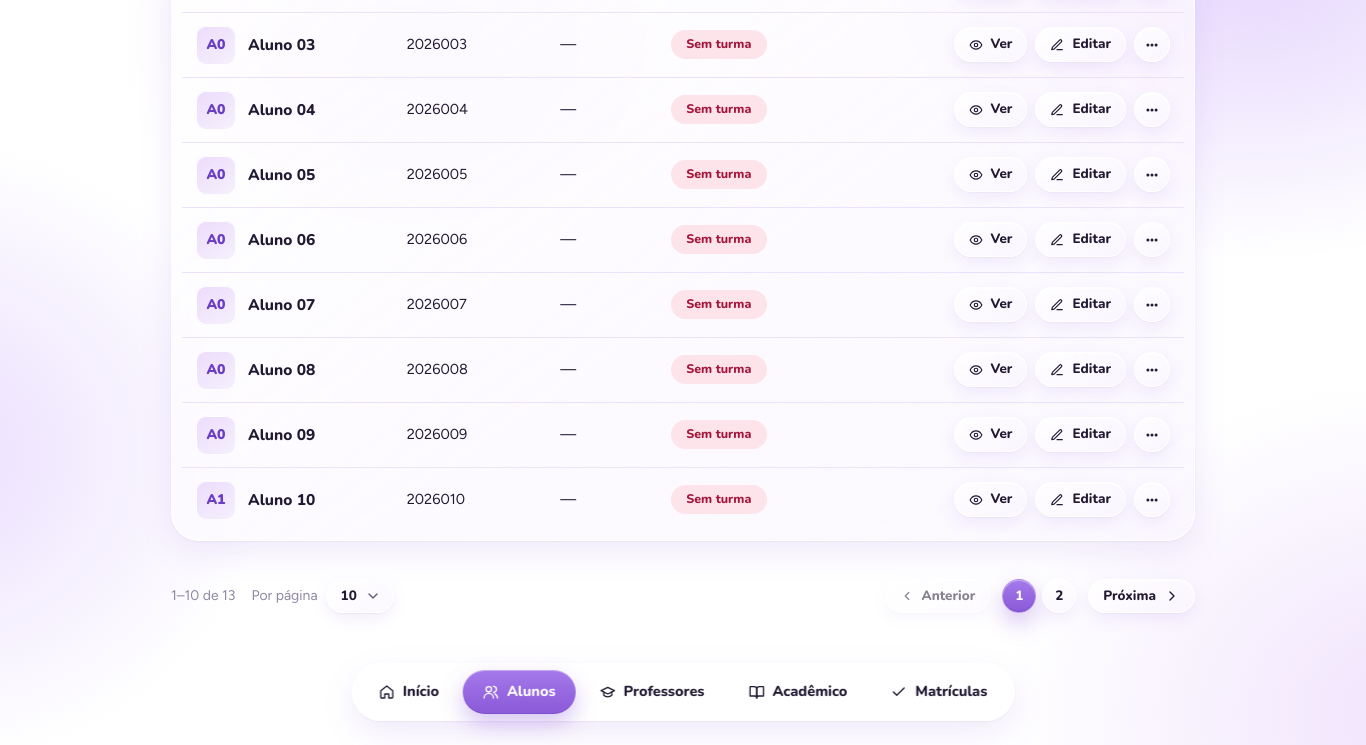
Test: Alunos › pede ao backend só a página que mostra, e cards e pílulas contam a escola inteira
The width and height of the screenshot is (1366, 745).
(page scrolled)
Expected: the text "Aluno 11" is not shown
Click the button "Próxima".
click(1142, 596)  # box [1088,579,1195,613]
(page scrolled)
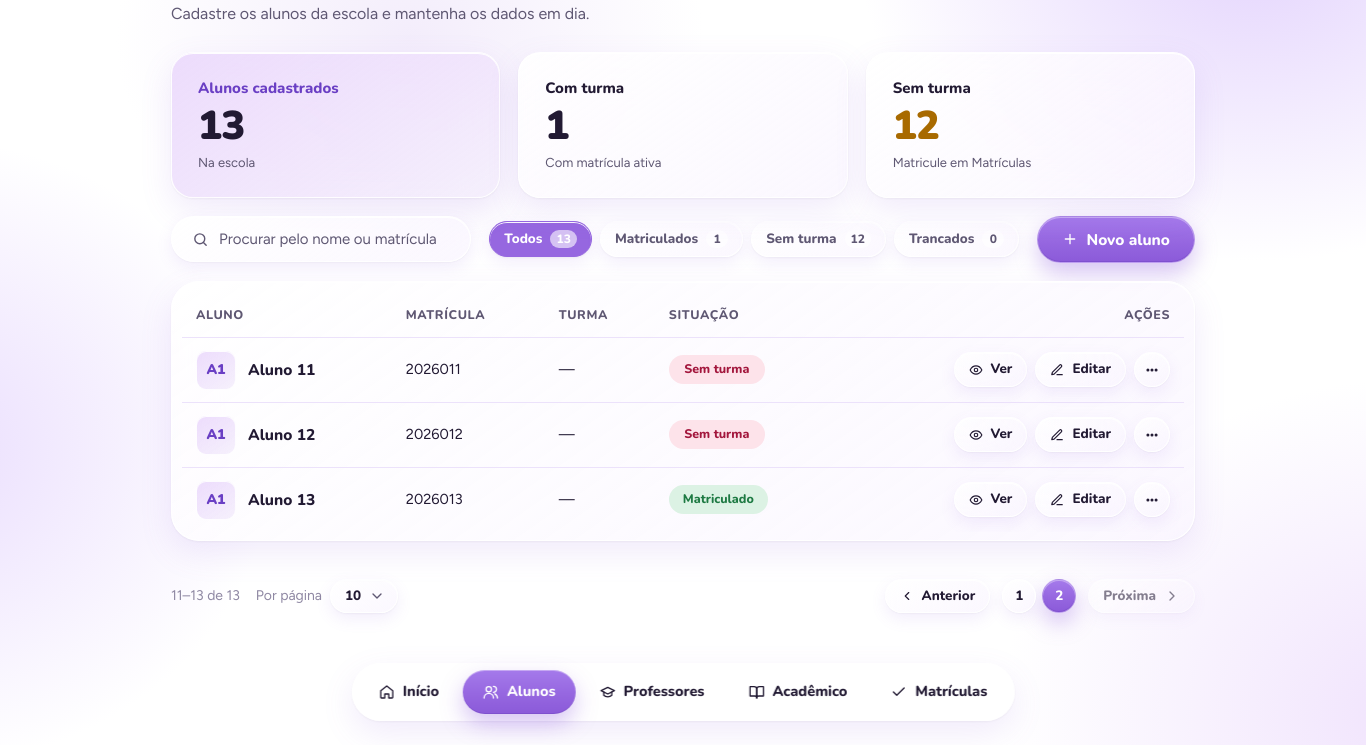
Result: the text "Aluno 11" is shown at [248,360,315,380]
Result: the text "11–13 de 13" is shown at [171,585,240,606]
